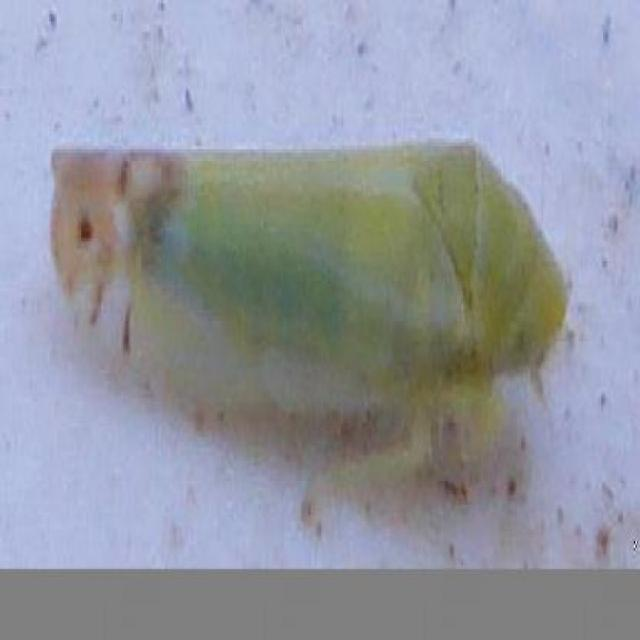green-leafhopper: (52, 137, 565, 454)
